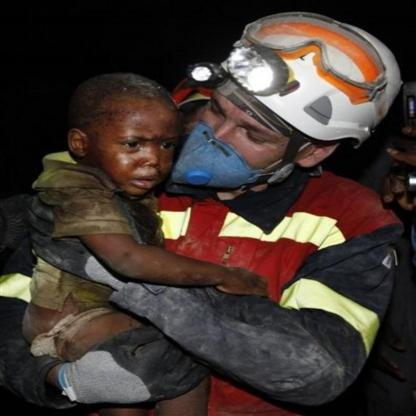face: (184, 81, 293, 184), (88, 96, 178, 194)
